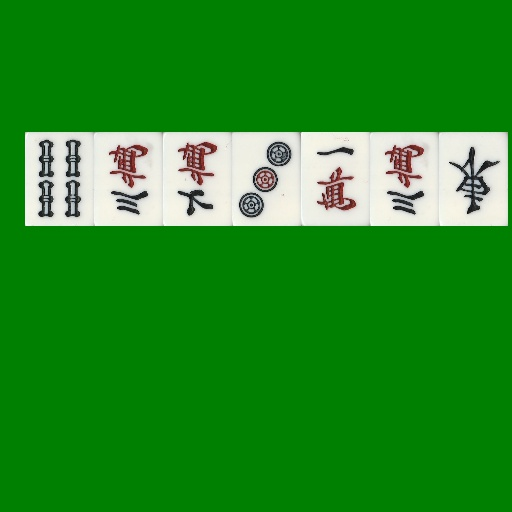1m: (301, 132, 370, 226)
3m: (94, 132, 163, 226), (370, 132, 439, 226)
3p: (232, 132, 301, 226)
4s: (25, 132, 94, 226)
7m: (163, 132, 232, 226)
east: (439, 132, 508, 226)
